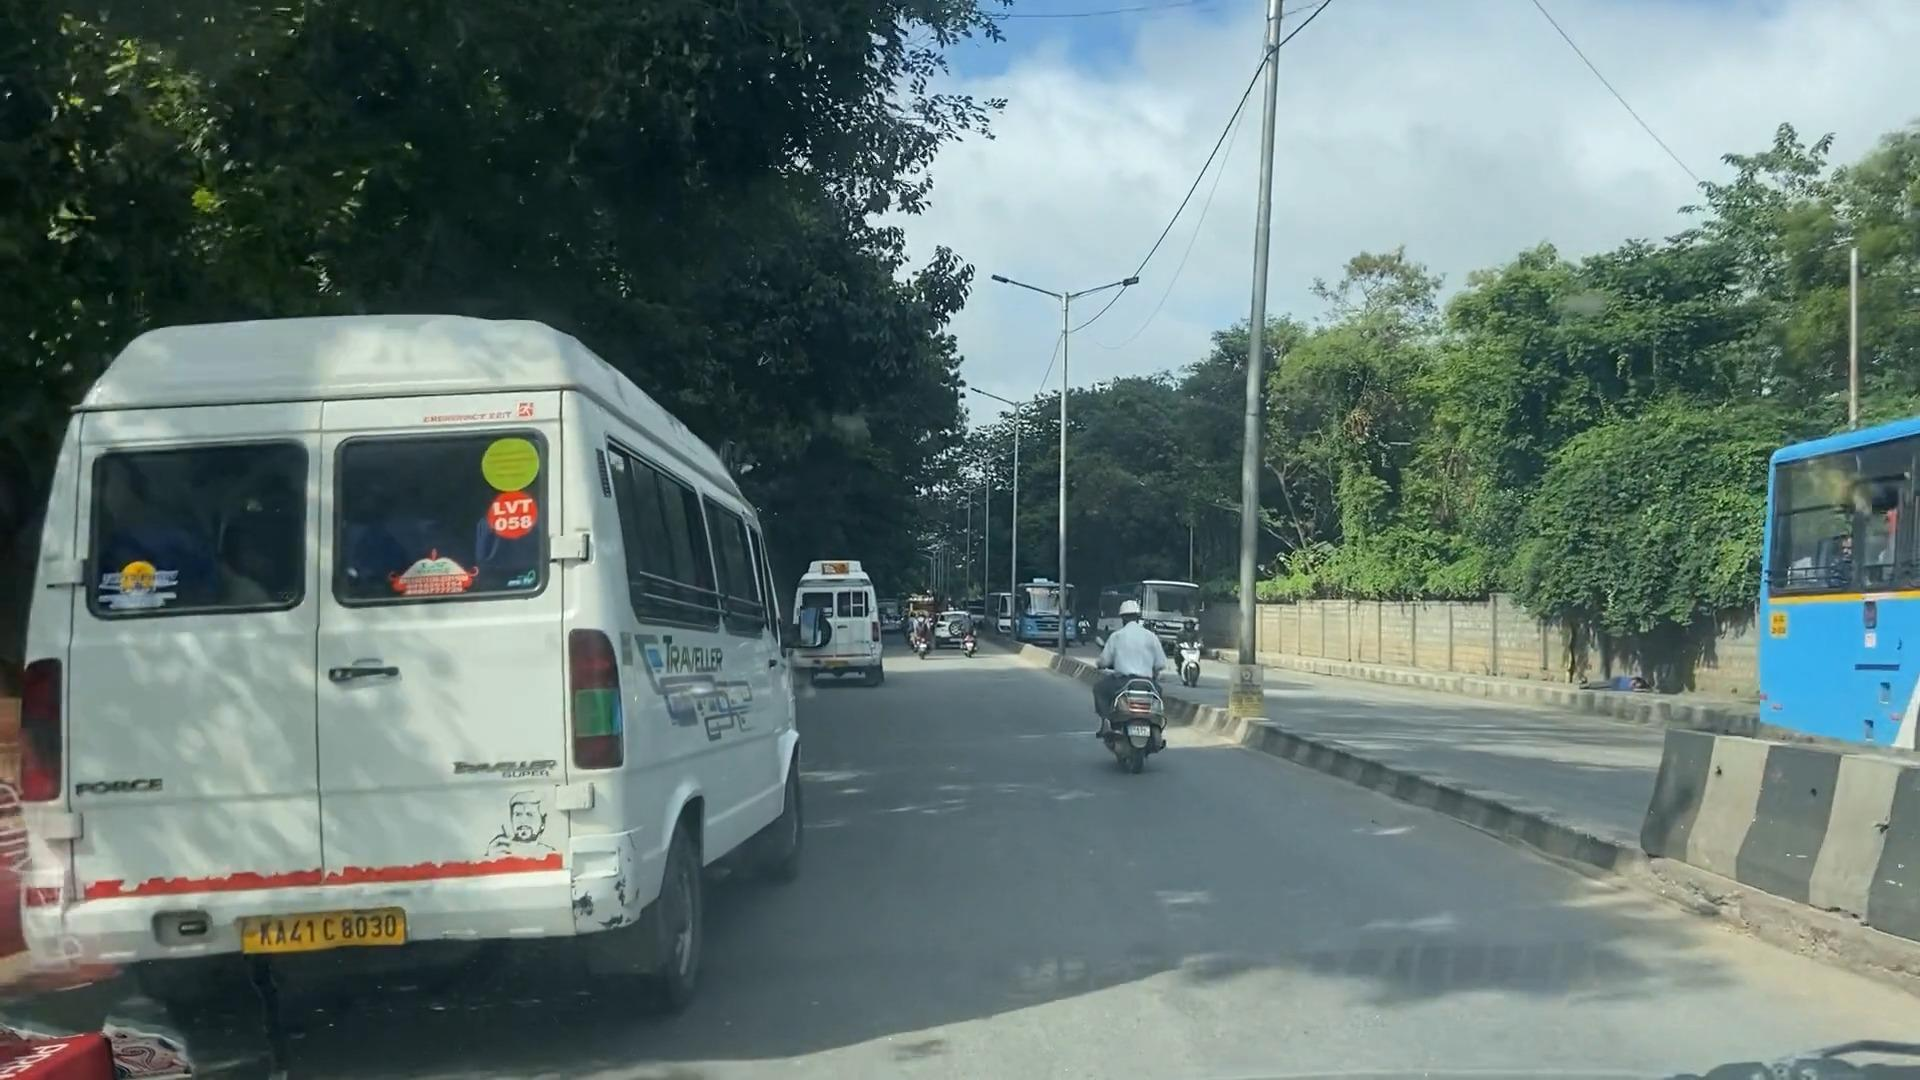HMV: (66, 323, 803, 1018), (806, 558, 889, 673)
LMV: (1091, 597, 1179, 770)
